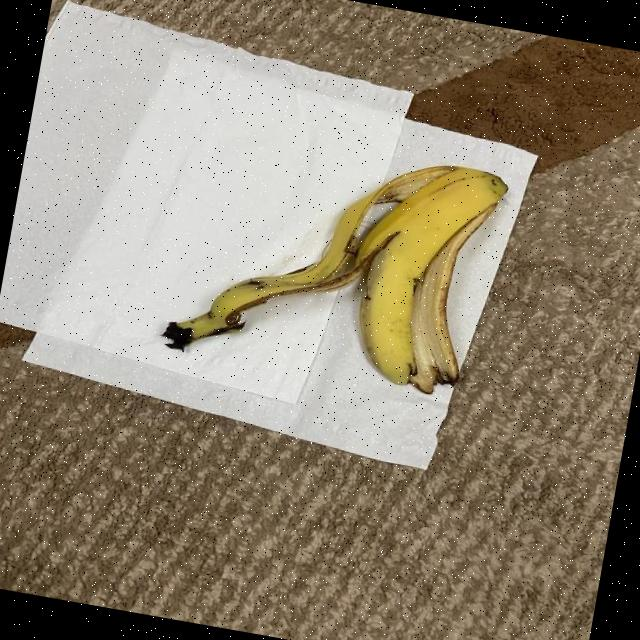banana-peel: (158, 117, 510, 404)
